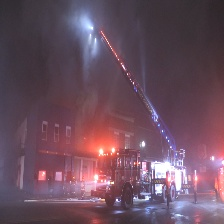smoke: (29, 11, 124, 110)
